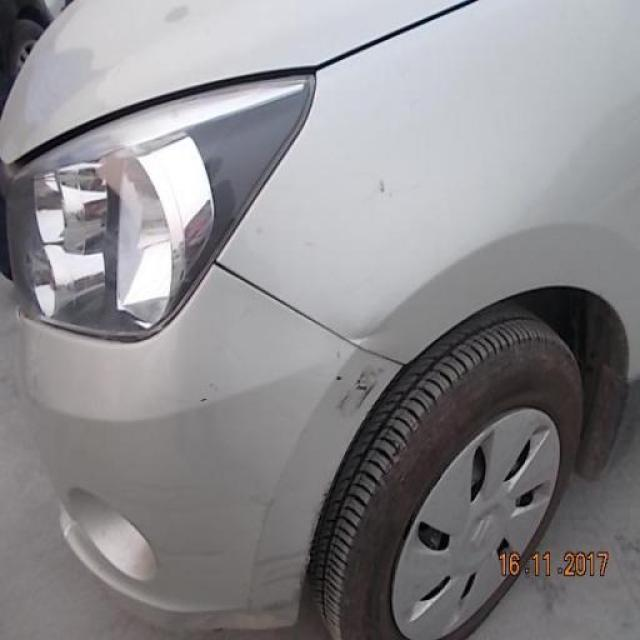scratch: (262, 480, 334, 626), (336, 365, 381, 407)
